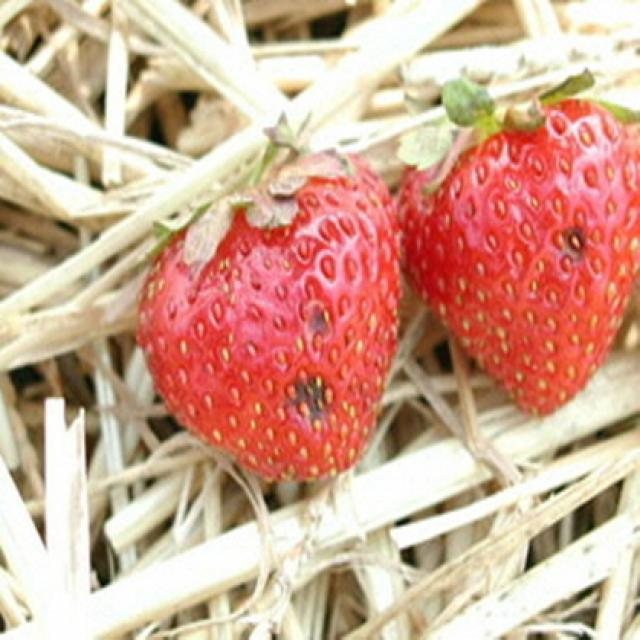Anthracnose Fruit Rot: (143, 166, 403, 482), (398, 99, 640, 417)
